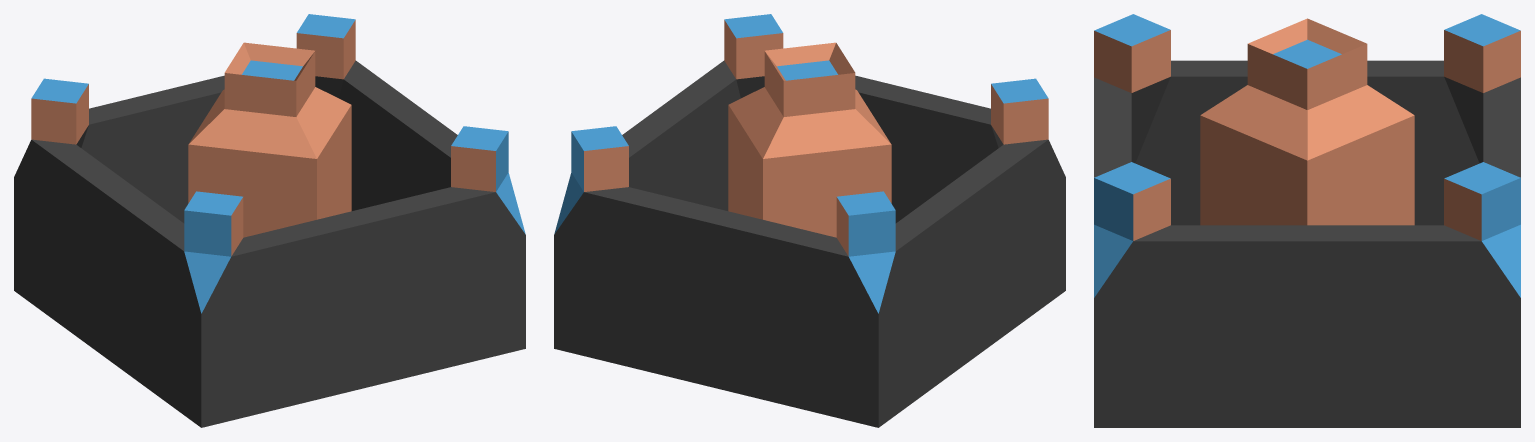
File: Castle-FBX.fbx
The picture shows the model from 3 angles, left to right: view 1: azimuth 30°, elevation 25°; view 2: azimuth 150°, elevation 25°; view 3: azimuth 270°, elevation 25°; orthographic projection. The views are drawn at different scales.
Parts seen in each view (by area): view 1: Cube; view 2: Cube; view 3: Cube.
Part boxes in pixels (x1=…): Cube: x1=14, y1=14, x2=525, y2=427; Cube: x1=554, y1=14, x2=1065, y2=427; Cube: x1=1094, y1=14, x2=1520, y2=427.
Size of the model in its own units: 200 by 152 by 200.
